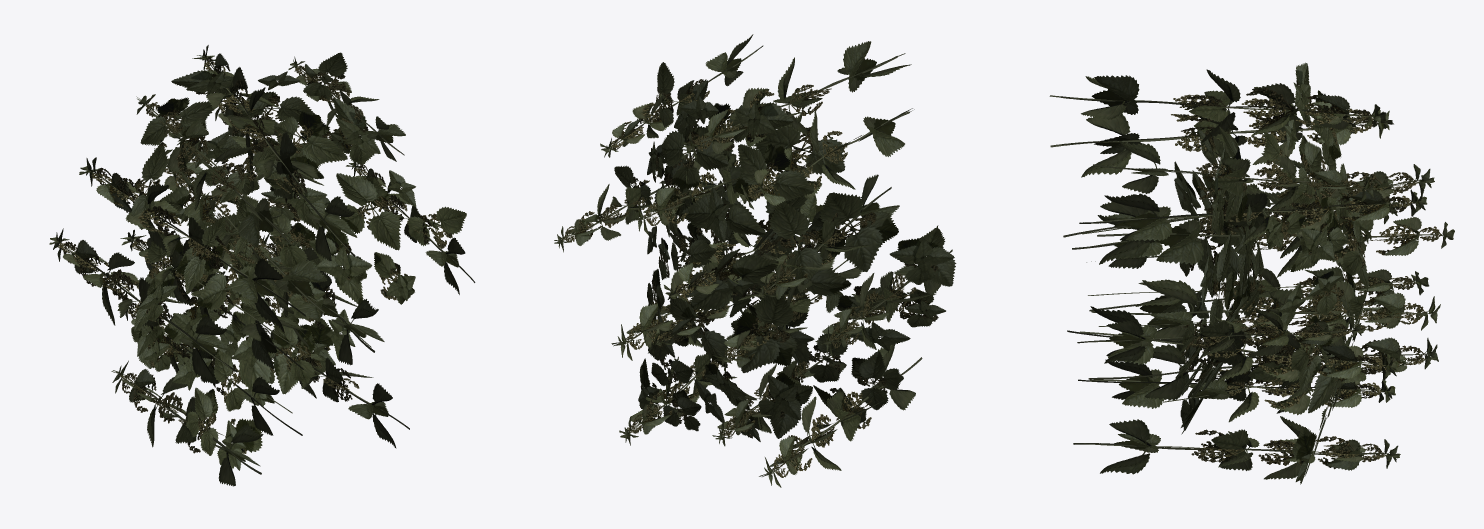
Rendered from TI_StingingNettel_01_2S.fbx.
The picture shows the model from 3 angles, left to right: view 1: azimuth 30°, elevation 25°; view 2: azimuth 150°, elevation 25°; view 3: azimuth 270°, elevation 25°; orthographic projection. The views are drawn at different scales.
Visible parts, largest first — view 1: TI_StingingNettel_01_2S; view 2: TI_StingingNettel_01_2S; view 3: TI_StingingNettel_01_2S.
Boxes of the visible parts, left/top/right/bottom form: TI_StingingNettel_01_2S: left=49, top=45, right=475, bottom=486; TI_StingingNettel_01_2S: left=554, top=34, right=956, bottom=487; TI_StingingNettel_01_2S: left=1049, top=62, right=1454, bottom=484.
Bounding box in the file's own units: 1.83 × 1.8 × 1.65.
